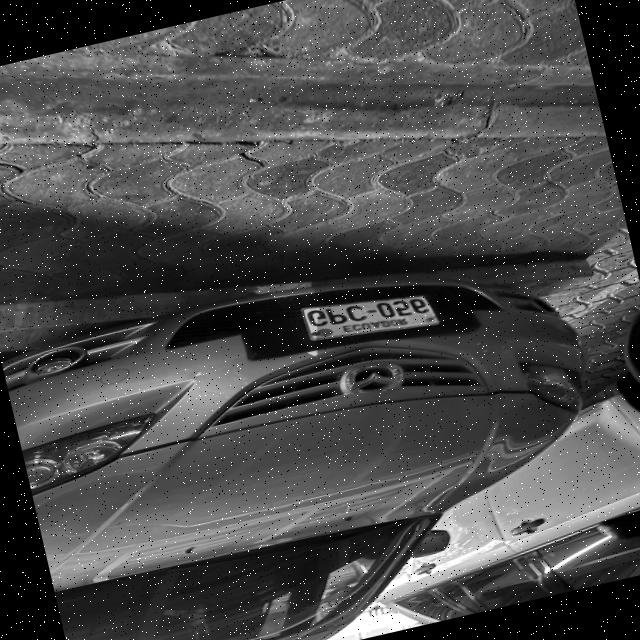Placa: (302, 295, 439, 339)
